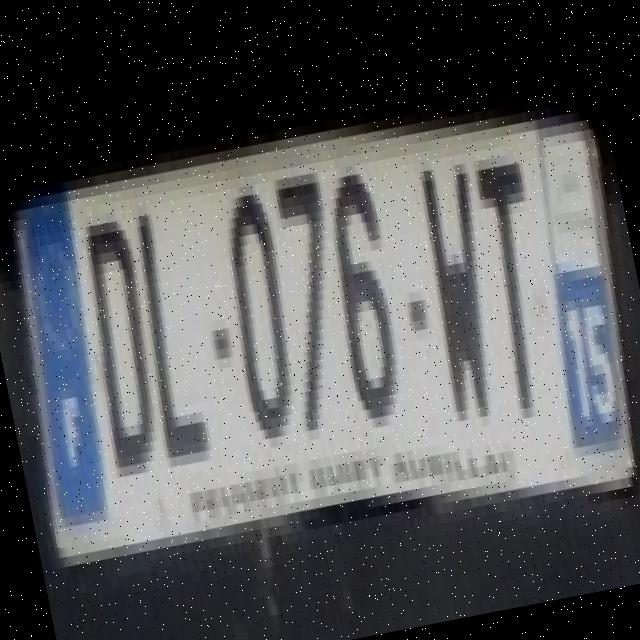EU: (12, 131, 637, 522)
France: (8, 192, 108, 520)
